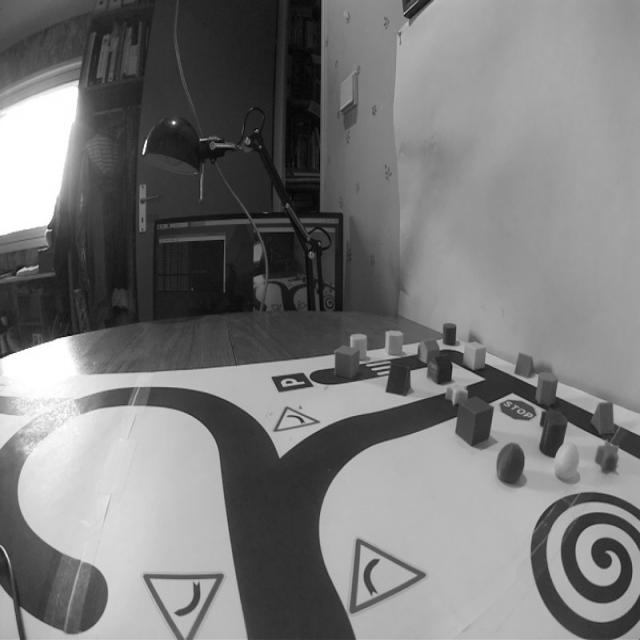ball: (494, 439, 527, 490), (552, 438, 581, 487)
cube: (454, 393, 494, 451), (334, 343, 362, 379), (462, 339, 487, 374)
cylinder: (540, 406, 569, 459), (349, 330, 368, 361), (441, 320, 458, 347)
hexagon: (535, 369, 558, 411), (384, 327, 405, 359)
home: (425, 350, 455, 386), (416, 336, 441, 369)
nest: (525, 488, 640, 640)
rightTurn: (314, 530, 433, 620)
star: (592, 438, 622, 476), (443, 377, 471, 409)
triangle: (383, 359, 414, 400), (590, 398, 617, 436), (512, 348, 539, 382)
